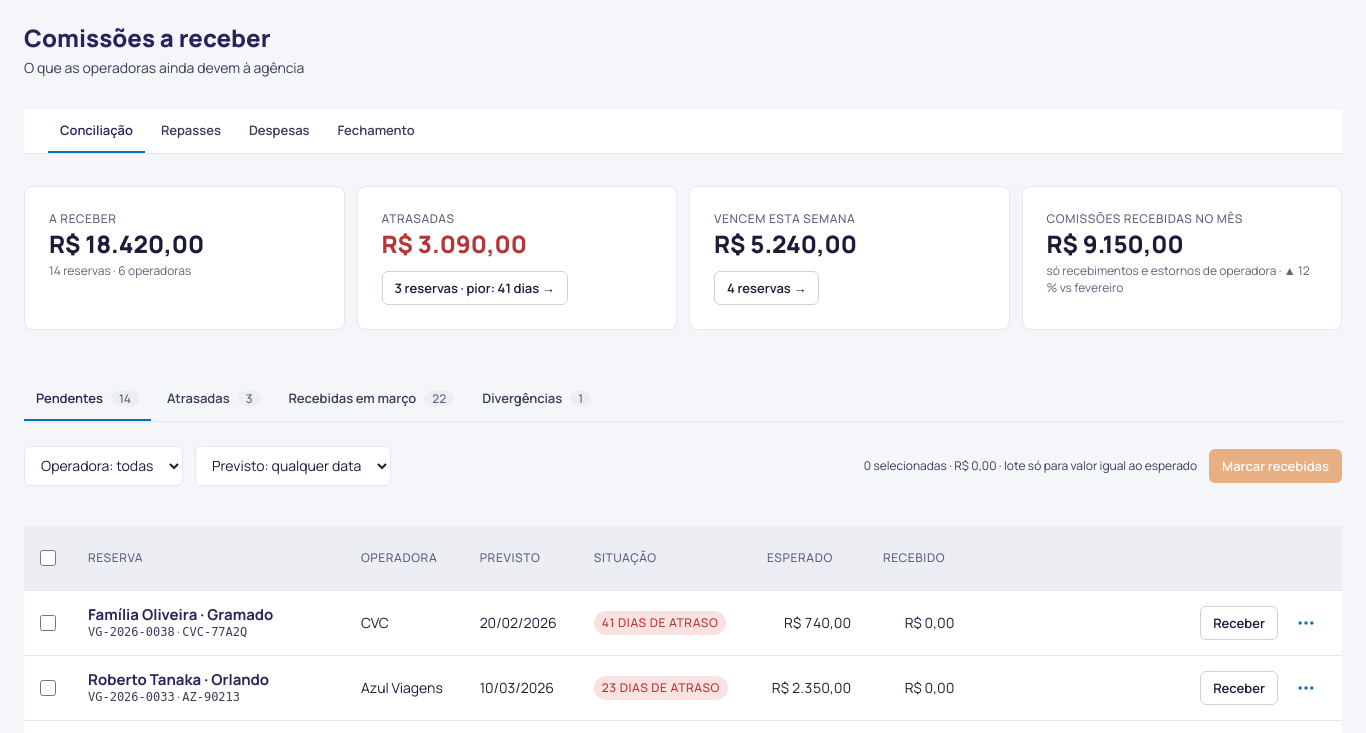
Receber abre o modal individual com o esperado da reserva
Expected: the text "Família Oliveira · Gramado" is shown, [88, 604, 273, 625]
What coordinates should you click on to do the following:
click the button "Receber" in the row of "Família Oliveira"
I would click on:
 (1239, 623)
Its box is [1200, 606, 1278, 640].
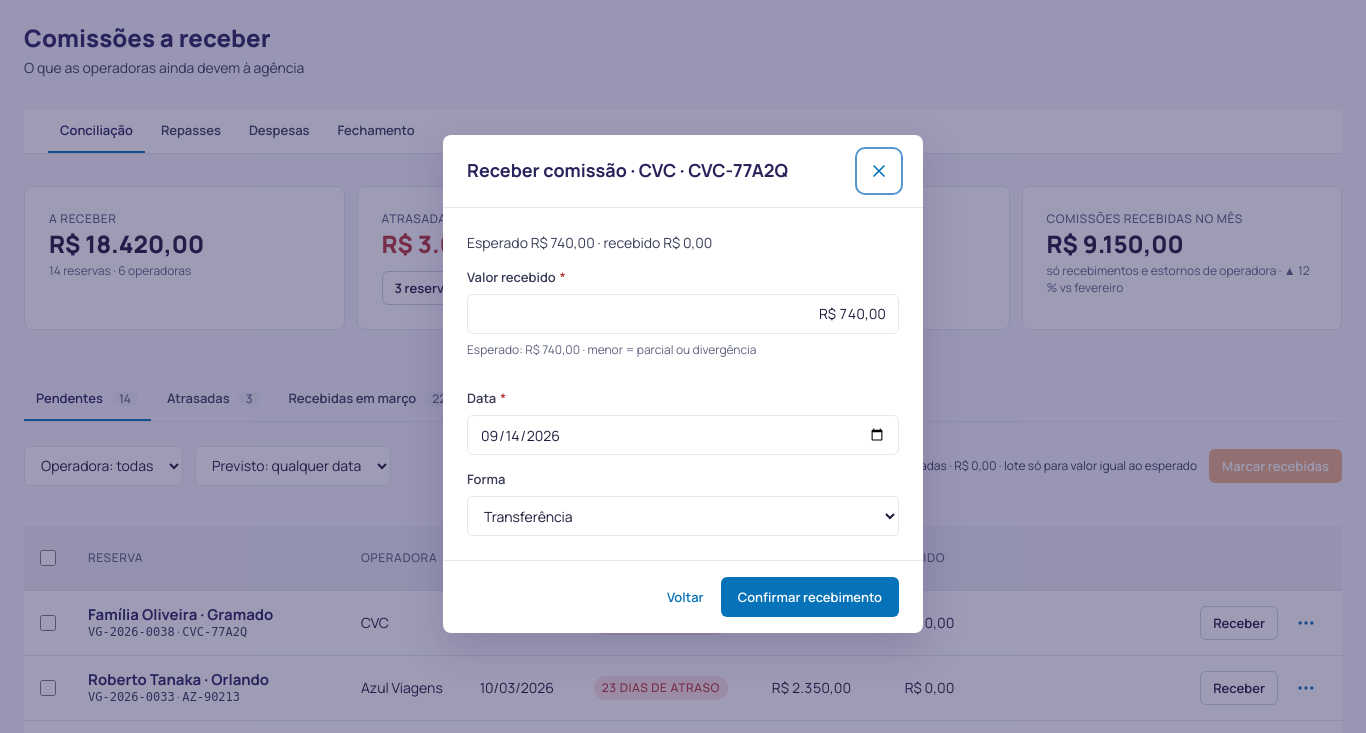
Now the heading "Receber comissão · CVC · CVC-77A2Q" is shown, box [467, 159, 788, 182]
Now the text "Esperado R$ 740,00 · recebido R$ 0,00" is shown, box [467, 233, 712, 252]
